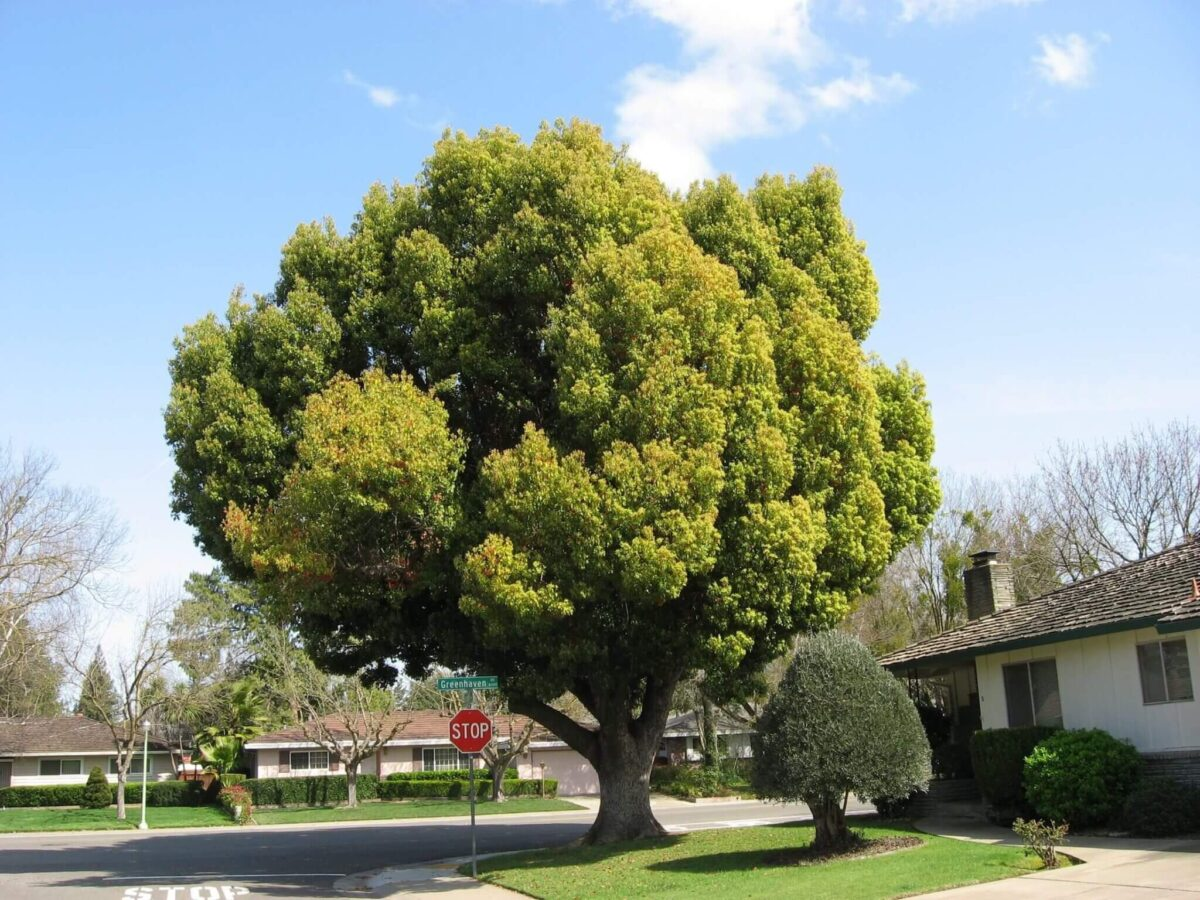tree: (150, 112, 950, 840), (738, 639, 944, 854)
